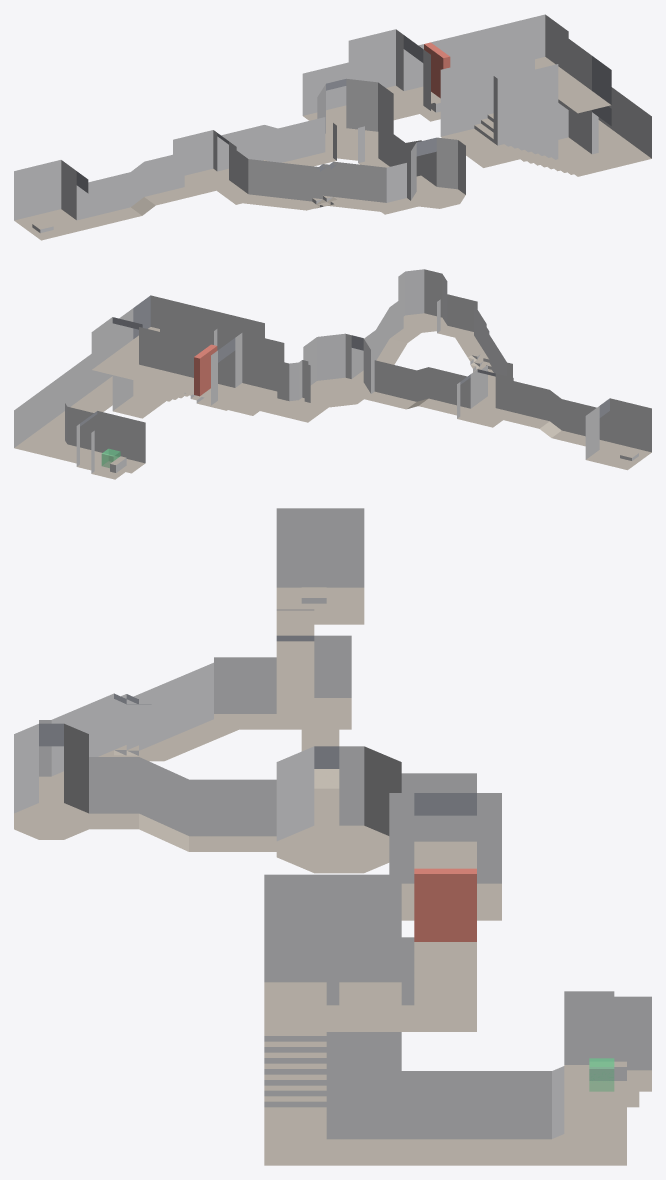
Rendered from habitat_06.glb.
3 views of the same model, one above another, from view 1: azimuth 30°, elevation 25°; view 2: azimuth 150°, elevation 25°; view 3: azimuth 270°, elevation 25° (orthographic). The views are drawn at different scales.
Visible parts, largest first — view 1: room:5, corridor:1, corridor:5, corridor:3, room:4, corridor:2, room:1, corridor:4, room:0, room:3, corridor:0, entities; view 2: corridor:1, corridor:4, room:5, corridor:2, room:1, room:4, corridor:3, corridor:5, room:2, room:0, corridor:0, room:3 (+1 smaller); view 3: room:5, corridor:4, corridor:1, corridor:5, corridor:0, room:1, room:4, room:2, room:0, entities, room:3, corridor:3 (+1 smaller).
Boxes of the visible parts, x1,y1,x2,y2 form: room:5: [440, 39, 611, 176]; corridor:1: [302, 14, 568, 132]; corridor:5: [217, 151, 418, 214]; corridor:3: [76, 152, 195, 228]; room:4: [14, 160, 88, 240]; corridor:2: [217, 117, 336, 179]; room:1: [317, 78, 393, 161]; corridor:4: [592, 87, 651, 168]; room:0: [411, 137, 465, 208]; room:3: [173, 130, 236, 195]; corridor:0: [358, 123, 436, 191]; entities: [424, 42, 450, 98]; corridor:1: [91, 317, 328, 422]; corridor:4: [14, 354, 149, 463]; room:5: [112, 295, 264, 418]; corridor:2: [364, 360, 470, 415]; room:1: [303, 333, 370, 407]; room:4: [585, 398, 651, 470]; corridor:3: [504, 381, 609, 449]; corridor:5: [437, 294, 512, 407]; room:2: [76, 411, 145, 479]; room:0: [398, 269, 447, 332]; corridor:0: [351, 297, 420, 381]; room:3: [457, 369, 513, 427]; room:5: [264, 874, 401, 1133]; corridor:4: [264, 1066, 626, 1165]; corridor:1: [389, 773, 501, 1031]; corridor:5: [39, 657, 276, 802]; corridor:0: [89, 757, 276, 851]; room:1: [276, 746, 401, 873]; room:4: [276, 508, 364, 624]; room:2: [564, 991, 651, 1107]; room:0: [14, 723, 88, 839]; entities: [414, 868, 614, 1091]; room:3: [276, 635, 351, 729]; corridor:3: [276, 609, 314, 697].
Bounding box in the file's own units: 90 × 18 × 51.
